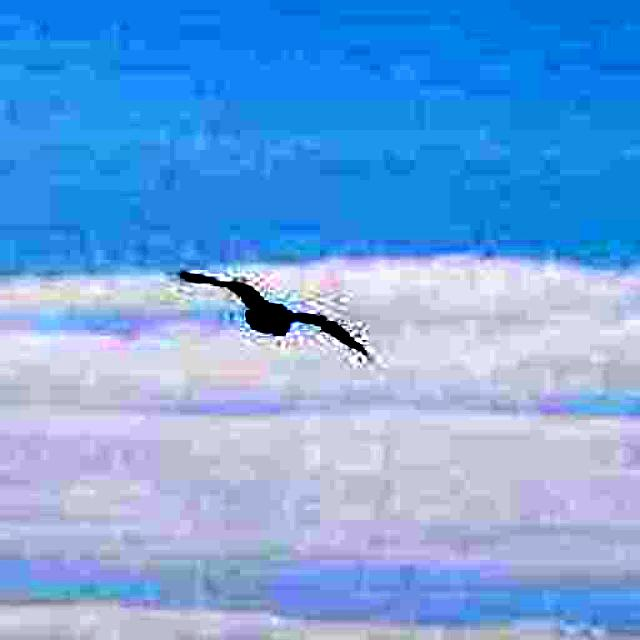airplane: (164, 252, 368, 379)
